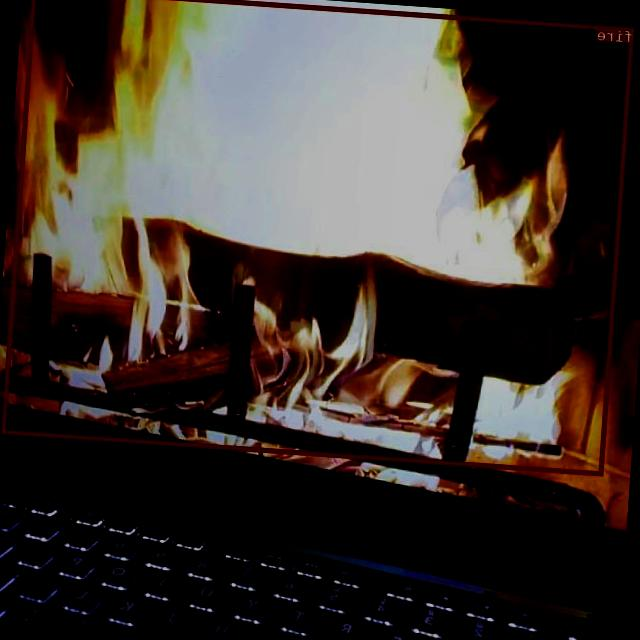fire: (1, 0, 634, 474)
